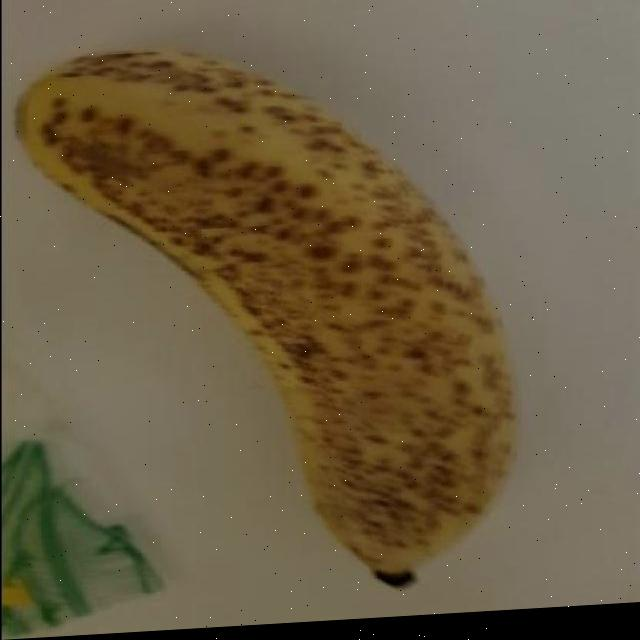banana: (16, 26, 524, 616)
